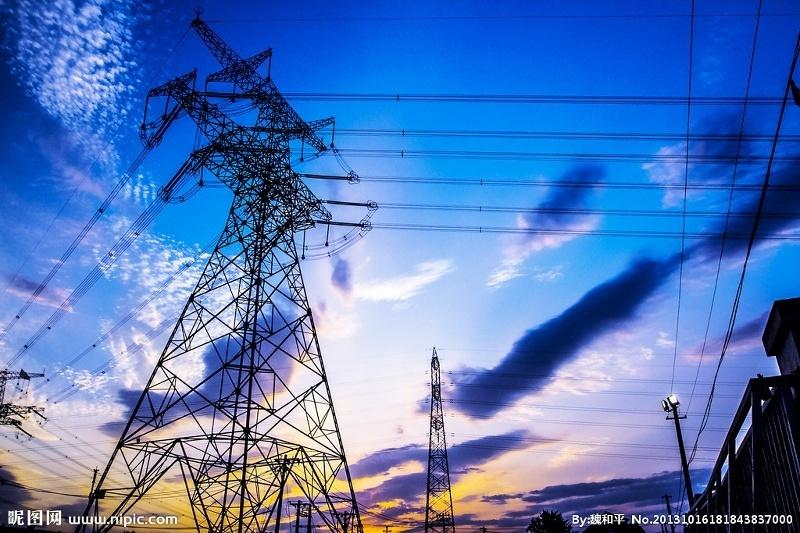power_tower: (89, 10, 371, 527), (409, 337, 479, 529)
